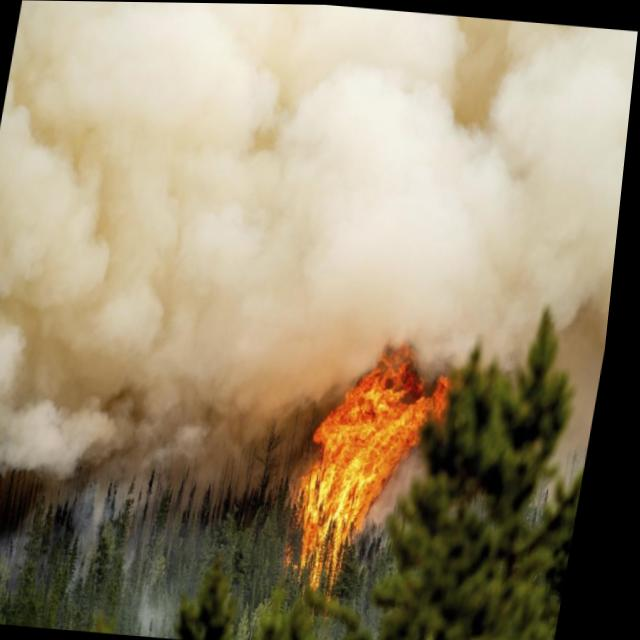Fire: (274, 323, 480, 610)
